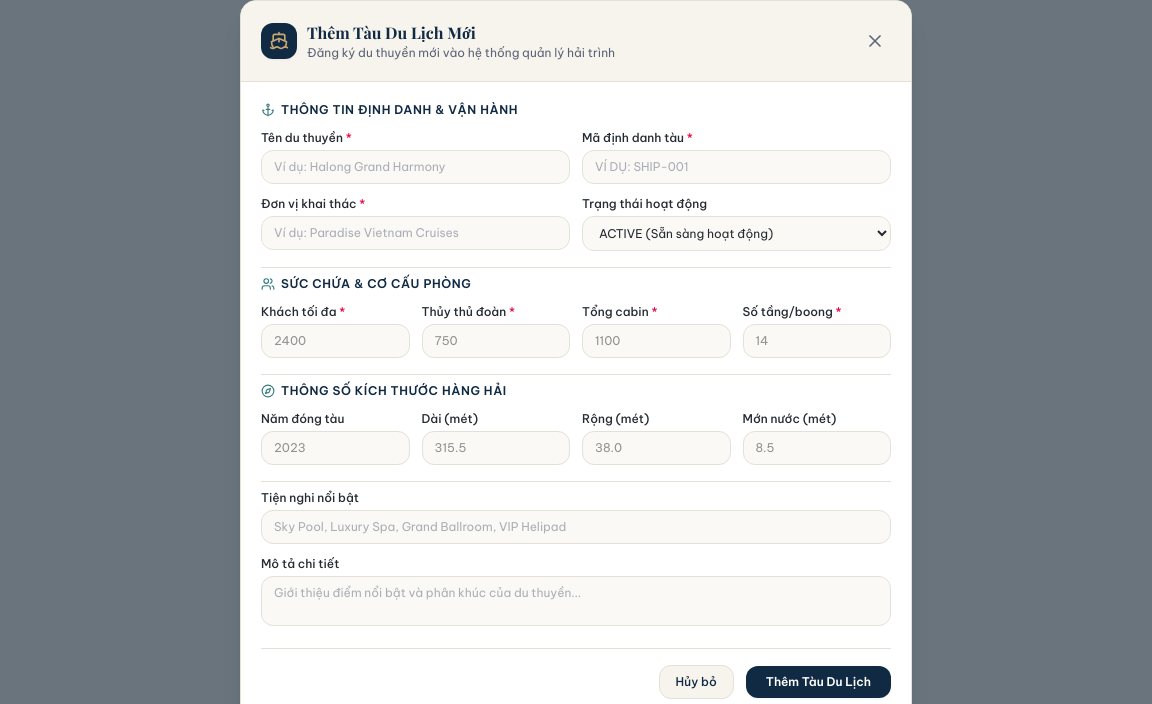
ShipFormModal Component Tests › validates required fields and shows error messages on empty submit
Step 1. Click the button "Thêm Tàu Du Lịch" → x=818, y=682, box [746,666,891,698]
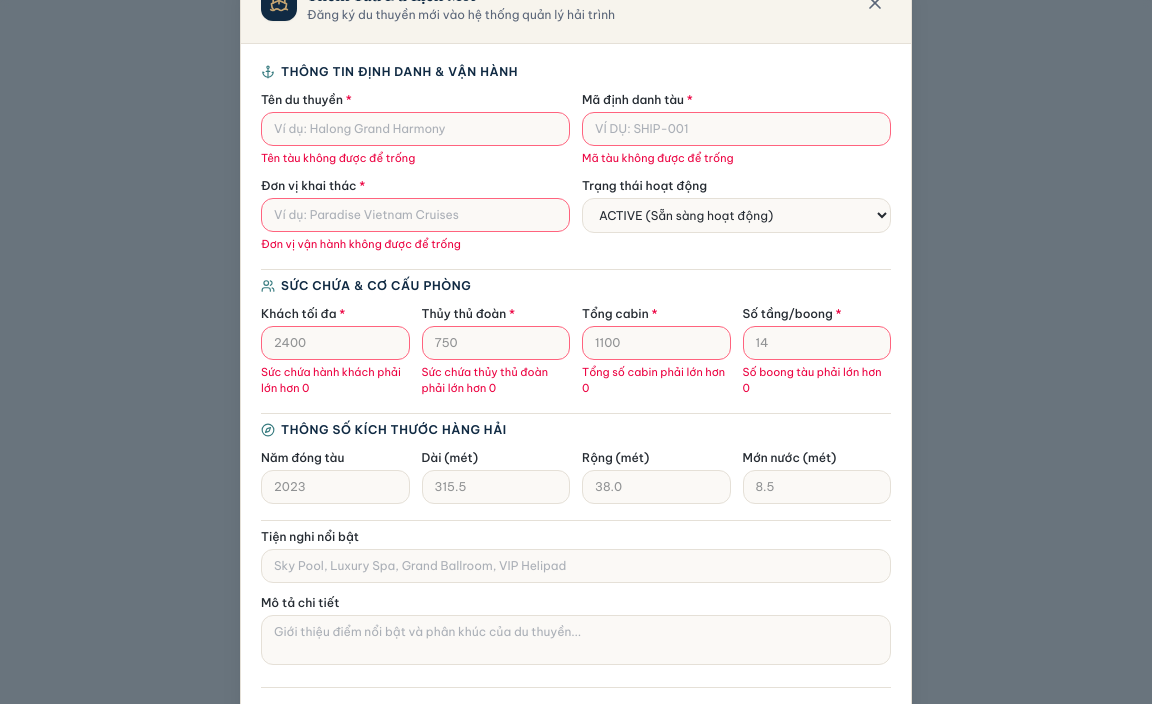
Expected: the text "Tên tàu không được để trống" is shown, [261,150,415,164]
Expected: the text "Mã tàu không được để trống" is shown, [582,150,734,164]
Expected: the text "Đơn vị vận hành không được để trống" is shown, [261,237,461,251]
